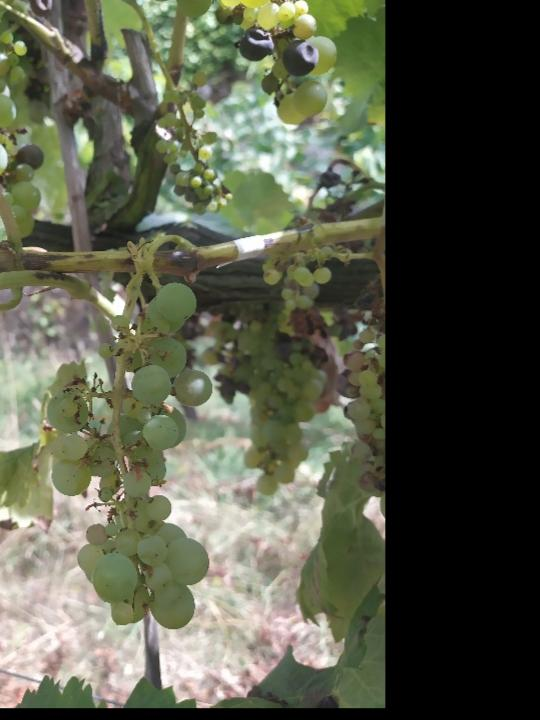grape: (44, 281, 217, 632)
